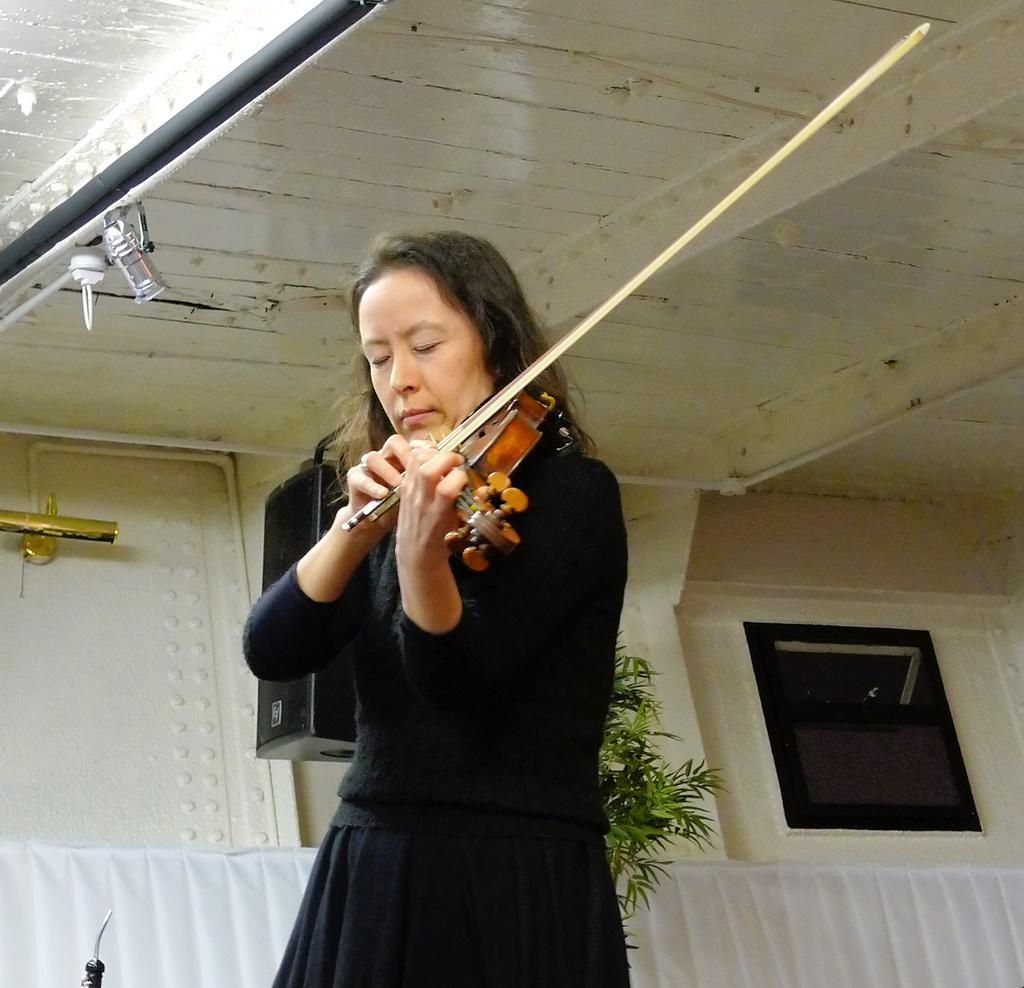no_helmet: (335, 228, 524, 310)
none: (254, 450, 620, 828)
